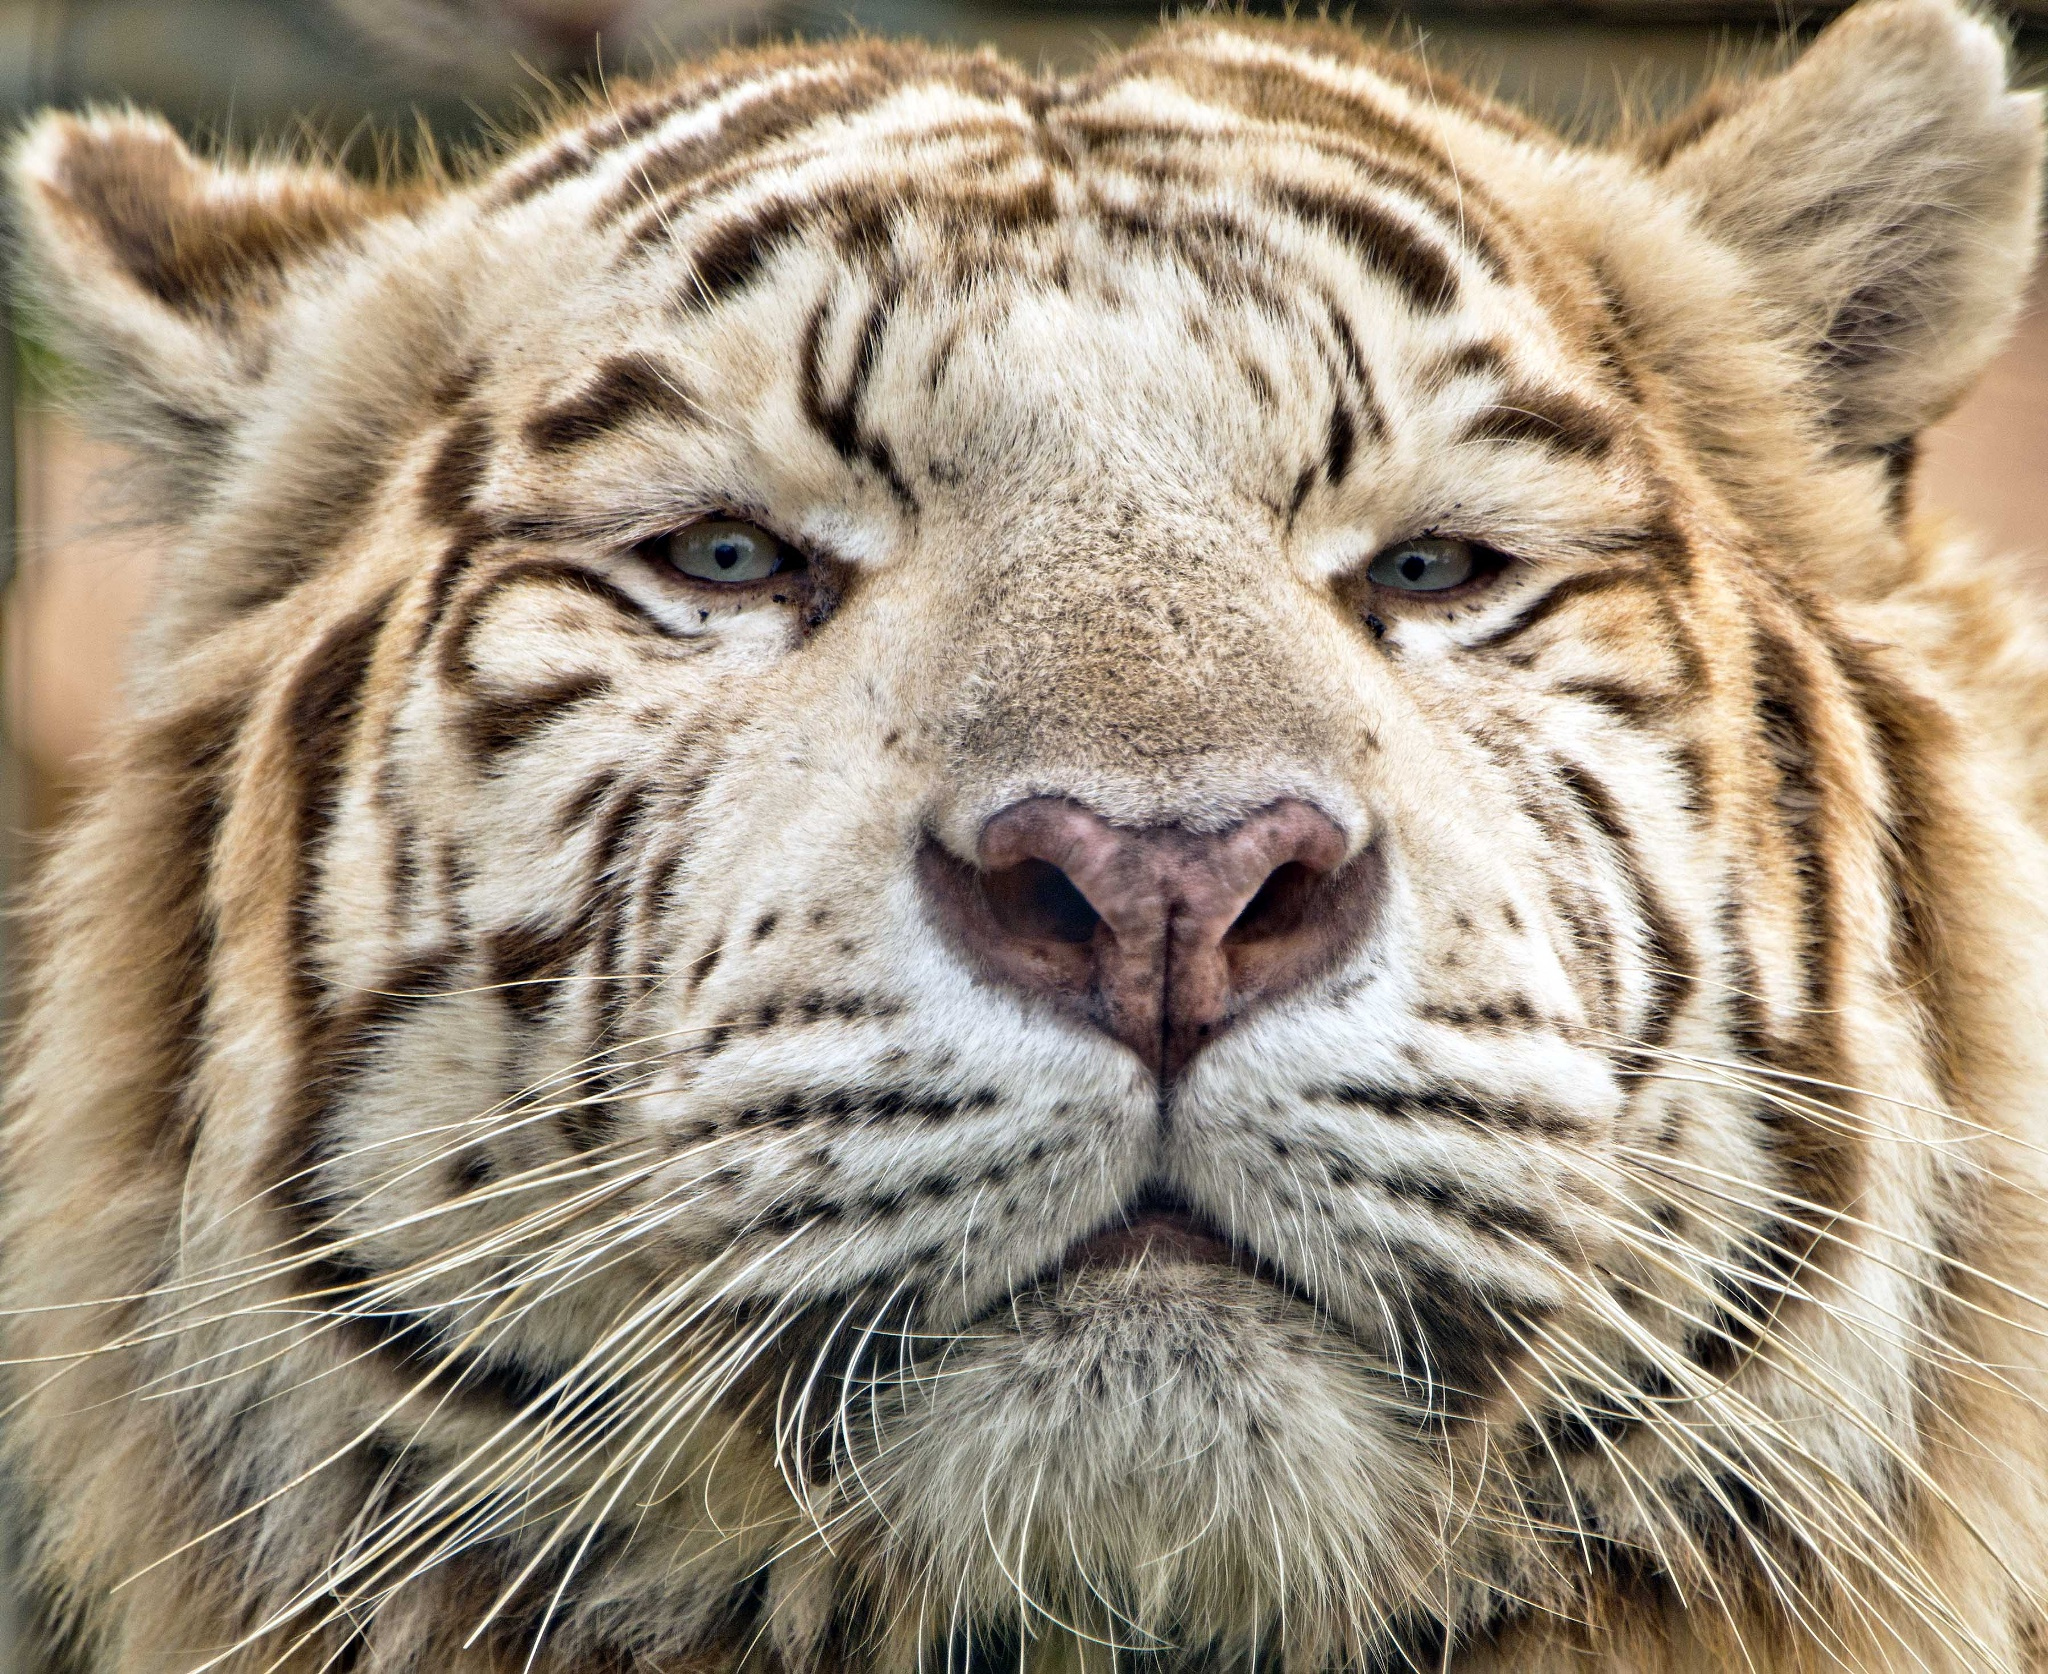tiger: (158, 111, 1954, 1601)
